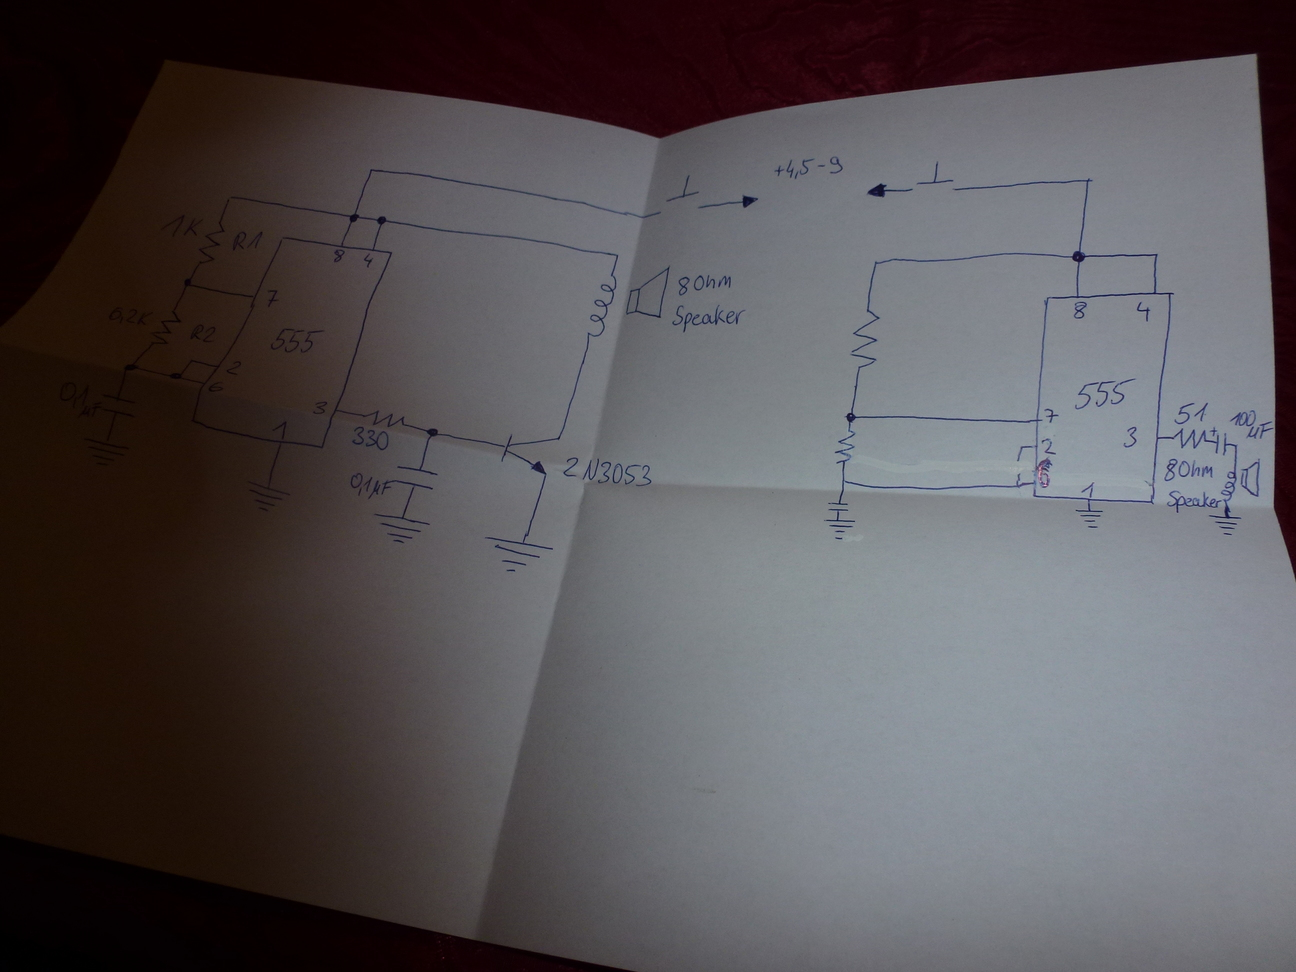capacitor.polarized: (1208, 425, 1231, 456)
capacitor.unpolarized: (393, 464, 440, 493), (98, 392, 139, 419), (826, 499, 851, 514)
gnd: (481, 533, 555, 575), (371, 511, 432, 546), (243, 478, 292, 514), (82, 435, 132, 468), (821, 517, 856, 542), (1074, 507, 1106, 533), (1210, 515, 1240, 538)
integrated_circuit: (190, 233, 394, 450), (1025, 292, 1175, 519)
junction: (1069, 247, 1087, 266), (422, 424, 439, 441), (868, 255, 885, 272), (842, 409, 859, 424), (347, 210, 360, 223), (181, 276, 193, 289), (608, 247, 620, 260), (839, 475, 851, 488), (373, 213, 388, 225), (1082, 175, 1094, 186), (122, 362, 136, 373), (1150, 249, 1161, 260), (364, 163, 376, 174), (172, 370, 184, 380), (1012, 480, 1023, 491), (187, 354, 197, 364), (225, 193, 234, 203), (1017, 442, 1026, 452)
resistor: (847, 307, 883, 374), (194, 220, 227, 266), (148, 307, 184, 350), (361, 407, 406, 431), (833, 428, 857, 468), (1172, 428, 1207, 451)
speaker: (584, 264, 670, 339), (1220, 458, 1262, 503)
switch: (655, 173, 706, 218), (906, 159, 962, 197)
text: (563, 454, 655, 487), (672, 302, 745, 334), (1071, 378, 1132, 412), (772, 153, 844, 182), (267, 324, 321, 357), (57, 380, 101, 419), (674, 273, 735, 297), (347, 470, 393, 501), (1229, 410, 1274, 441), (102, 303, 153, 329), (1163, 457, 1215, 482), (350, 425, 391, 453), (159, 214, 202, 240), (1165, 490, 1218, 511), (229, 229, 267, 254), (1175, 401, 1208, 423), (187, 322, 217, 343), (1120, 424, 1141, 450), (1037, 453, 1053, 484), (1134, 300, 1154, 323), (1039, 436, 1056, 458), (1079, 482, 1097, 502), (262, 287, 281, 307), (225, 358, 244, 377), (1041, 405, 1058, 425), (1071, 299, 1088, 320), (272, 416, 288, 437), (311, 398, 328, 416), (206, 377, 225, 392), (331, 247, 346, 263), (360, 253, 376, 268)
transistor: (499, 431, 562, 477)
vss: (863, 182, 891, 200), (740, 192, 761, 210)
